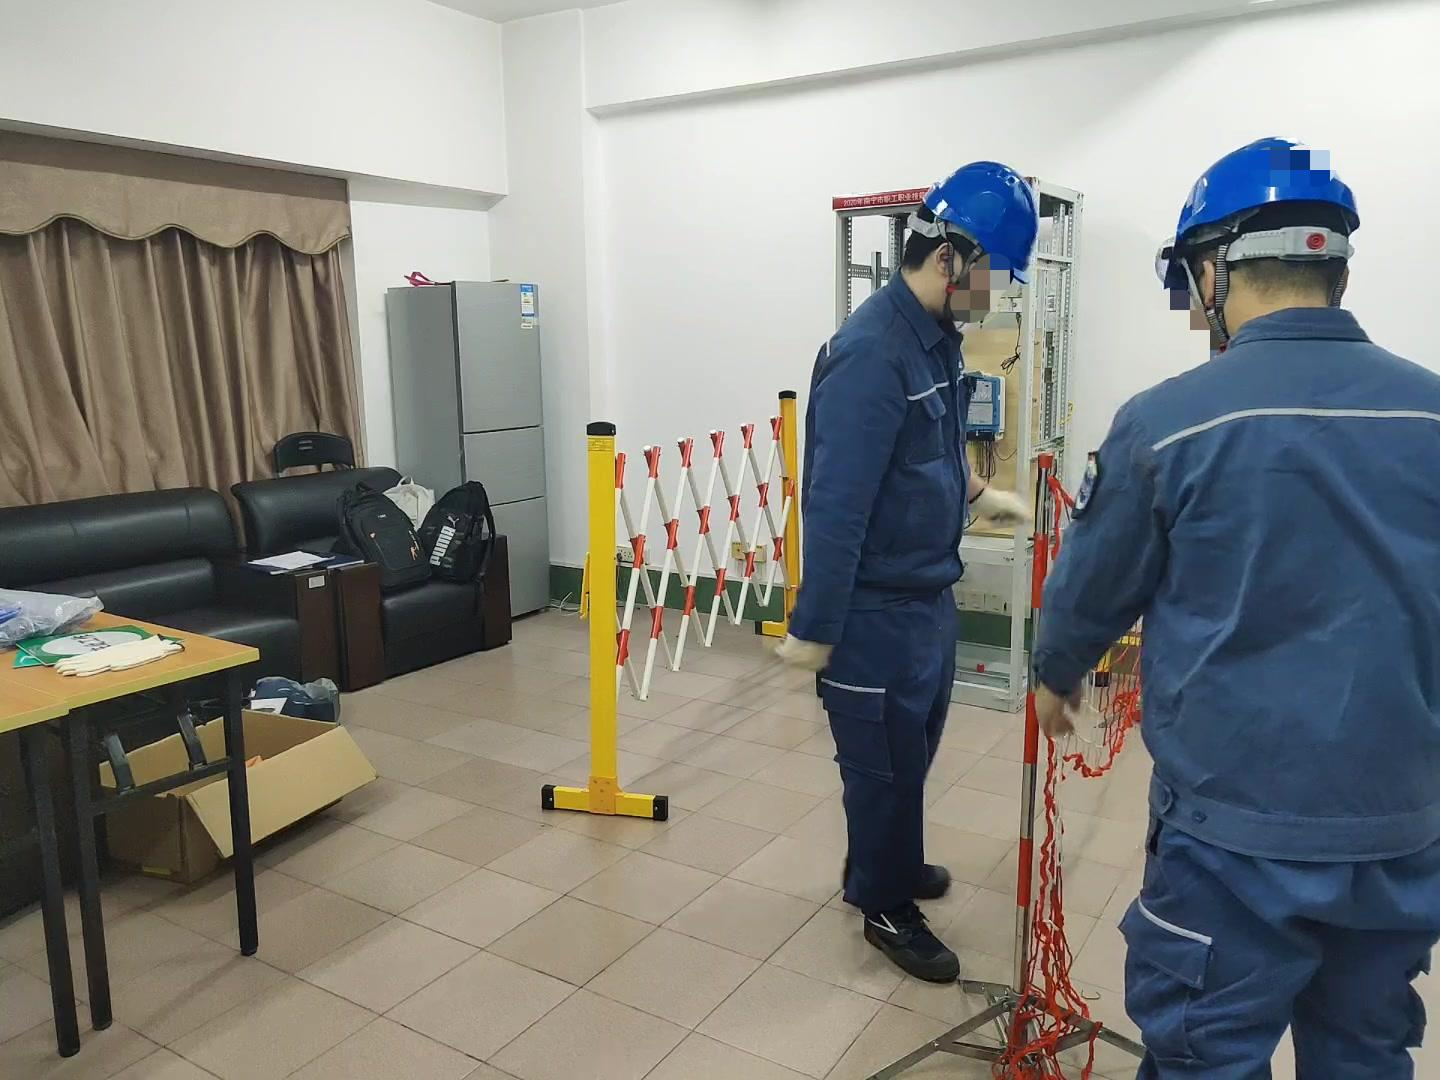halt: (1159, 137, 1369, 336), (896, 160, 1045, 321)
inear: (1181, 248, 1236, 338), (929, 234, 980, 311)
